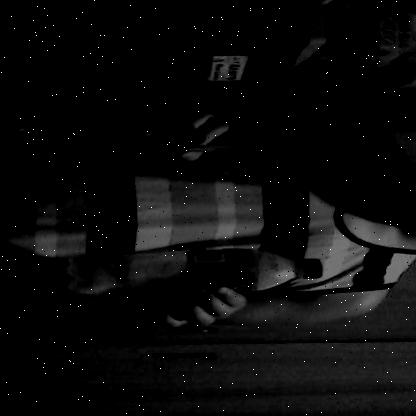Plastic Bottle: (52, 243, 340, 299)
